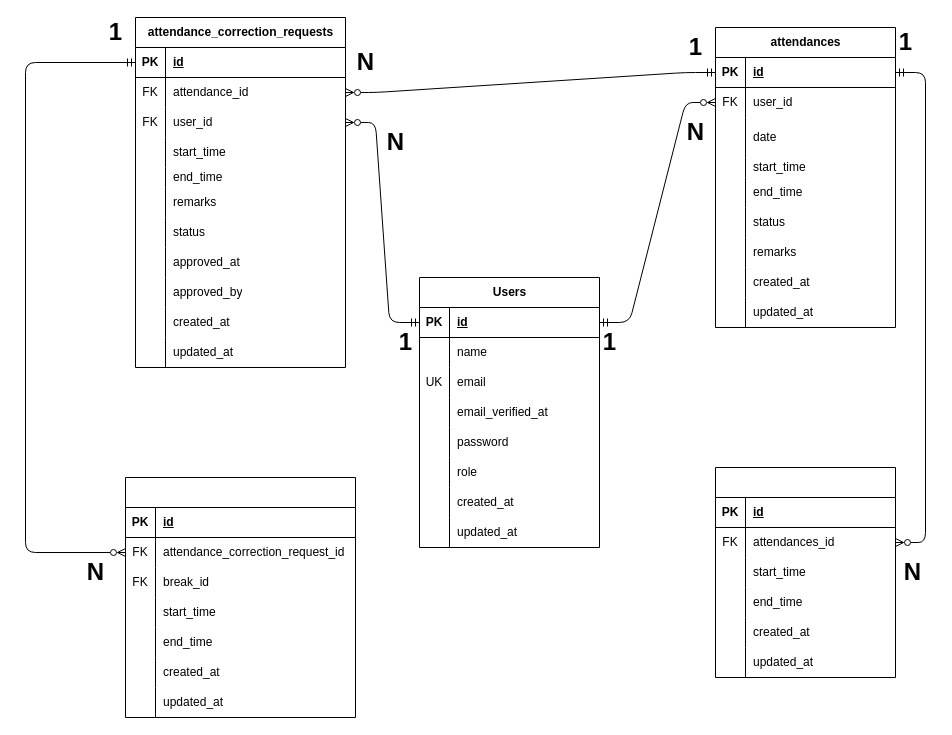
The diagram is 952 pixels wide and 735 high, and some of its shapes have lost their labels. Here are the shapes that lost their labels. From the top down, the box of each, then its label:
(714, 466, 896, 678): breaks
(124, 476, 356, 718): break_correction_requests
